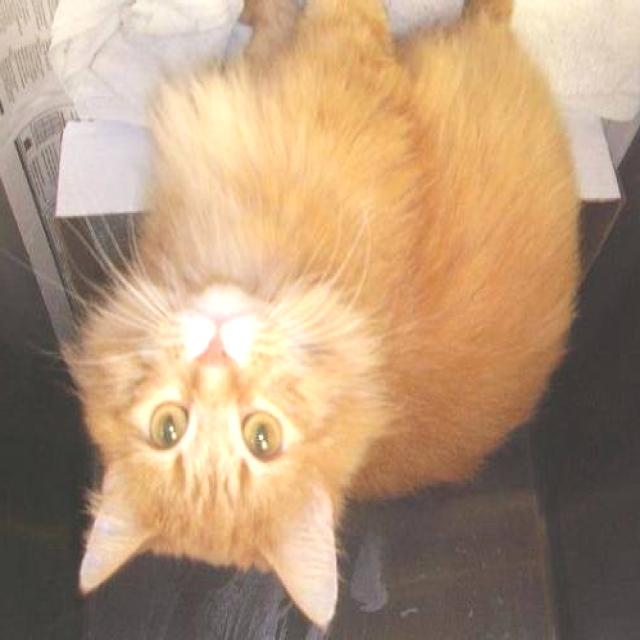Kucing: (21, 0, 624, 630)
